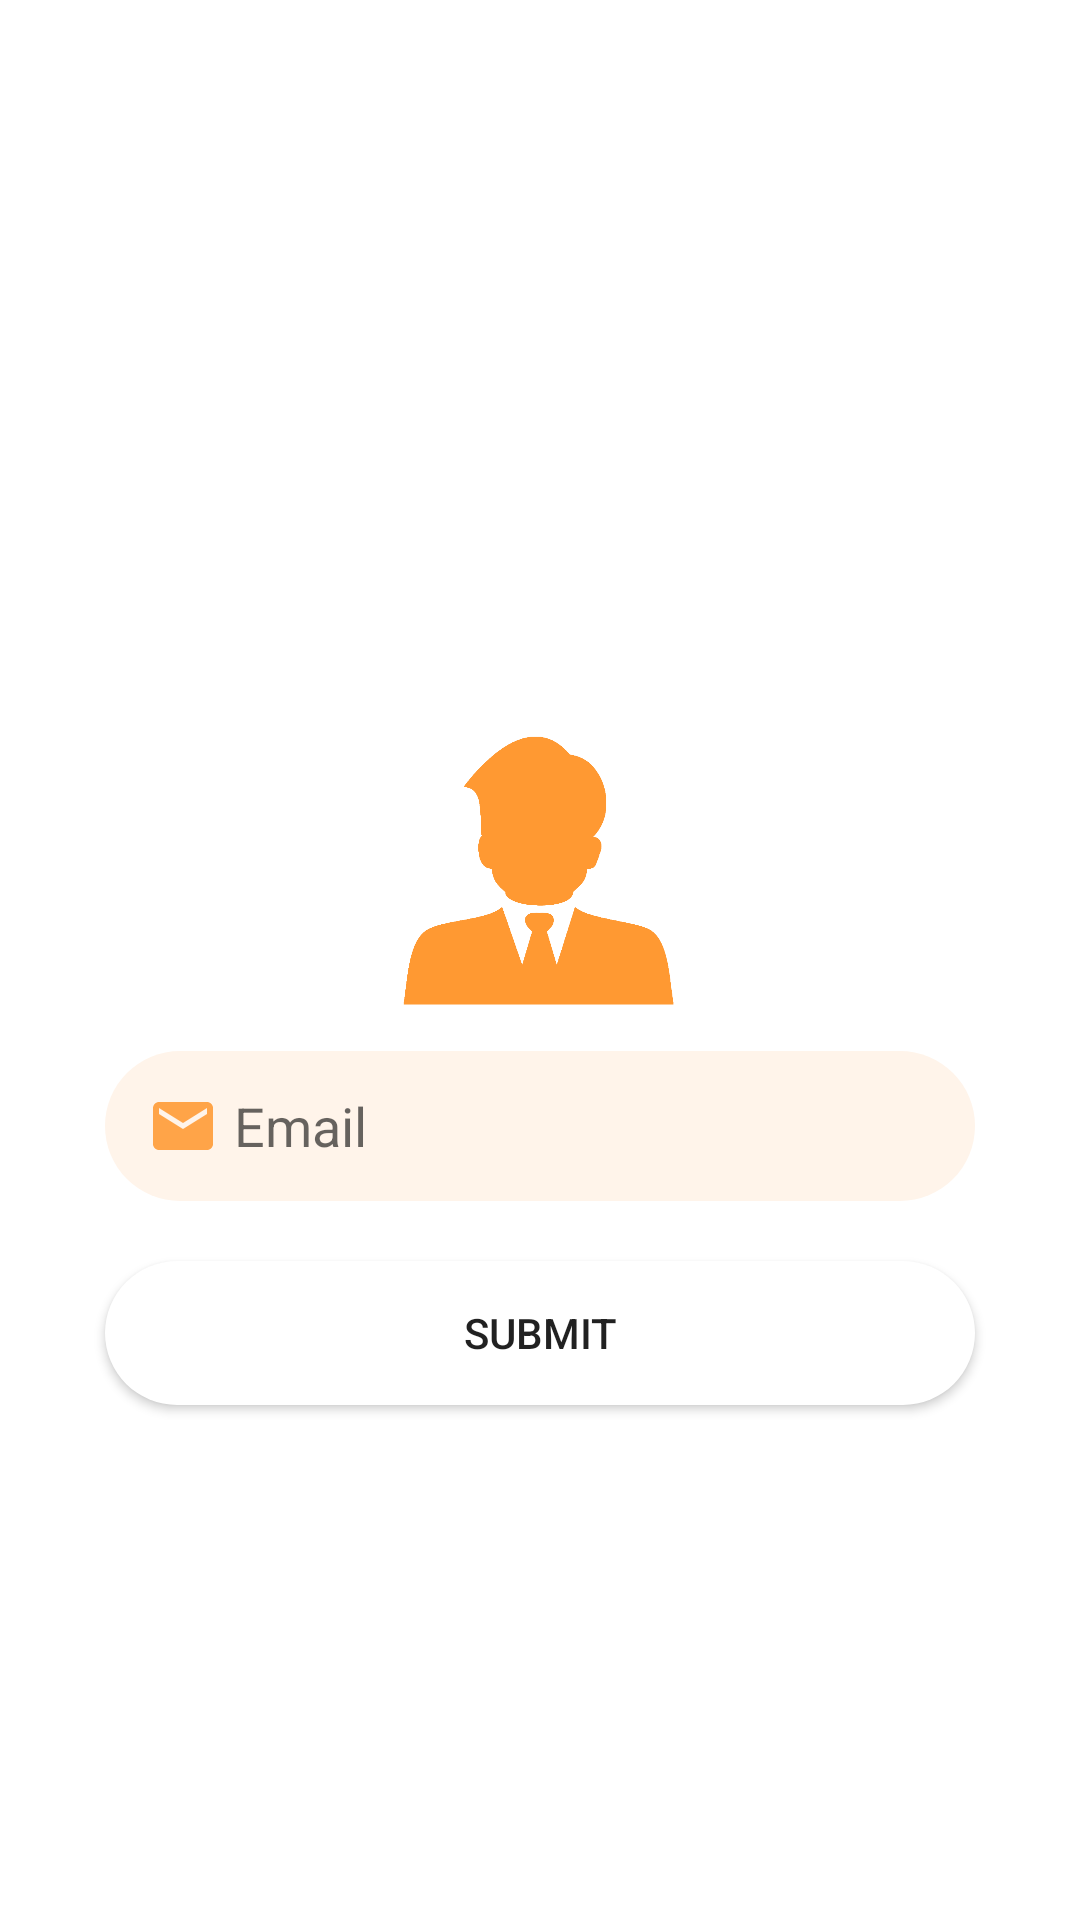

Icons on this 1080x1920 Android screen, each with the point to tap as (x=x, y=y):
employee: (x=538, y=871)
